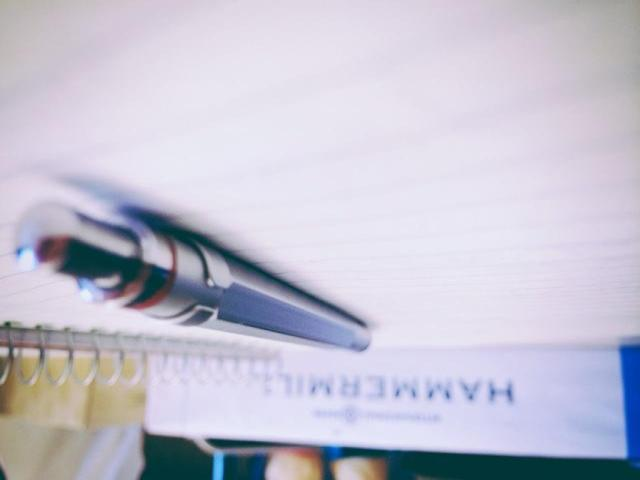PEN: (0, 187, 392, 358)
